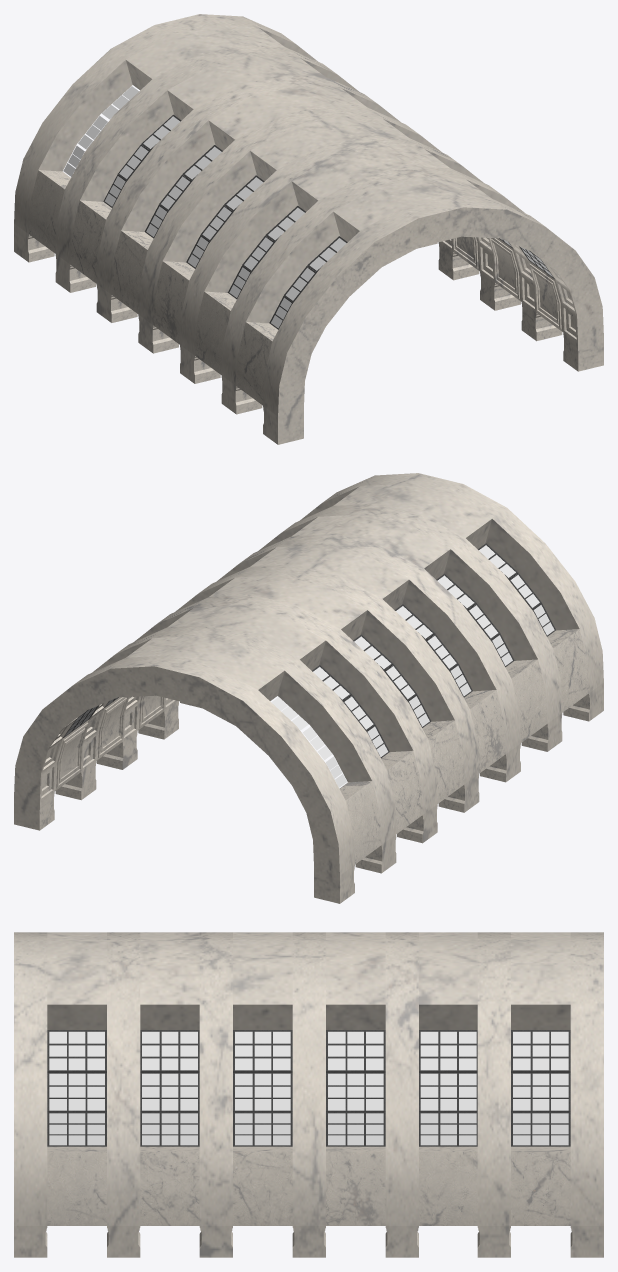
File: ceiling_top_with_texture.fbx
3 views of the same model, one above another, from view 1: azimuth 30°, elevation 25°; view 2: azimuth 150°, elevation 25°; view 3: azimuth 270°, elevation 25° (orthographic). The views are drawn at different scales.
Parts seen in each view (by area): view 1: ceiling_top, window12_polySurface57; view 2: ceiling_top, window12_polySurface57; view 3: ceiling_top, window12_polySurface57, polySurface1 (×6), polySurface30 (×6), polySurface58 (×6).
Part boxes in pixels (x1,y1,x2,y2): ceiling_top: (14, 14, 603, 444); window12_polySurface57: (103, 114, 554, 329); ceiling_top: (14, 473, 603, 903); window12_polySurface57: (63, 543, 555, 758); ceiling_top: (14, 932, 603, 1257); window12_polySurface57: (47, 1030, 570, 1146); polySurface1 (×6): (49, 1031, 568, 1070); polySurface30 (×6): (49, 1073, 568, 1110); polySurface58 (×6): (49, 1113, 568, 1145).
Size of the model in its own units: 60.6 by 34.17 by 85.01.
